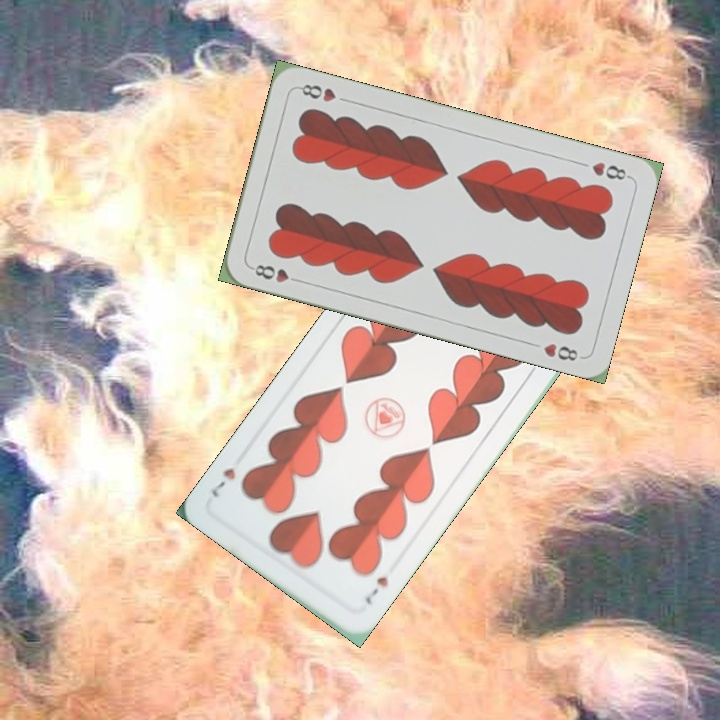H7: (360, 572, 391, 608)
H8: (247, 260, 305, 286), (587, 158, 633, 183)
